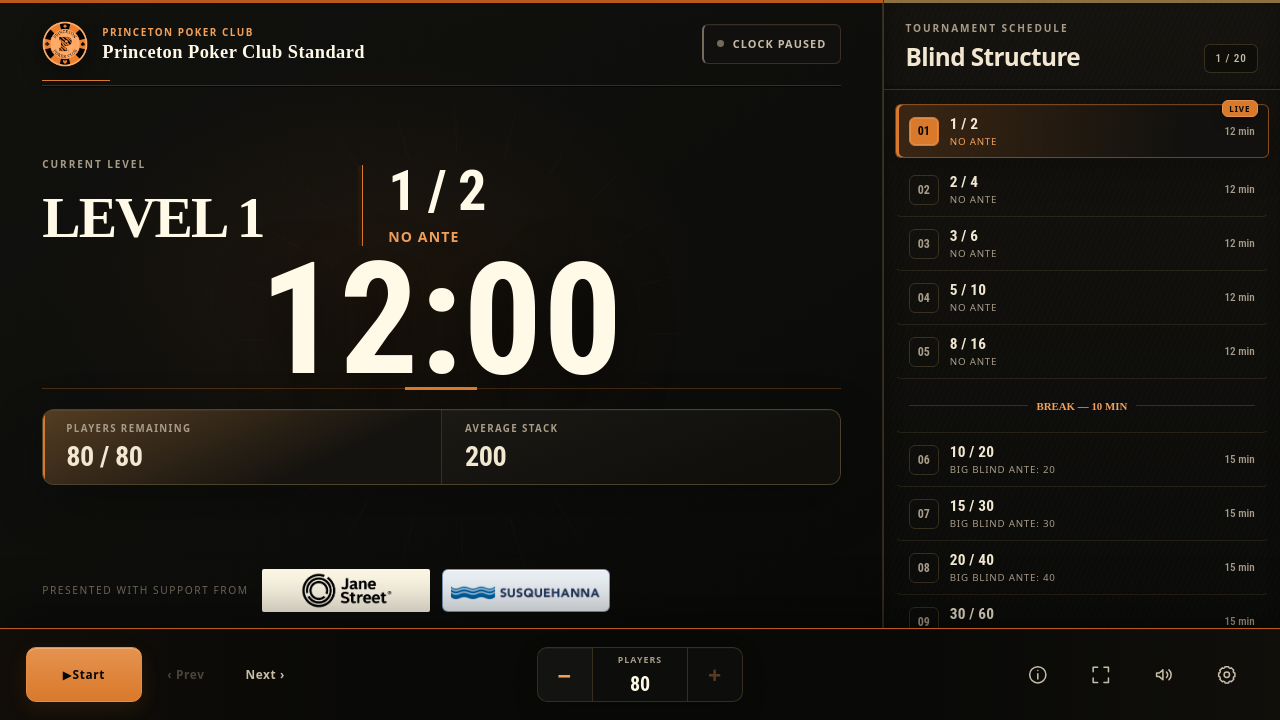
Test: DirectorOverlay › opens on Structure with integrated clock and reset controls
This screenshot has width=1280, height=720.
Click the button named "Open Tournament Director". click: coordinates (1227, 674)
box: [1200,647,1254,702]
(page scrolled)
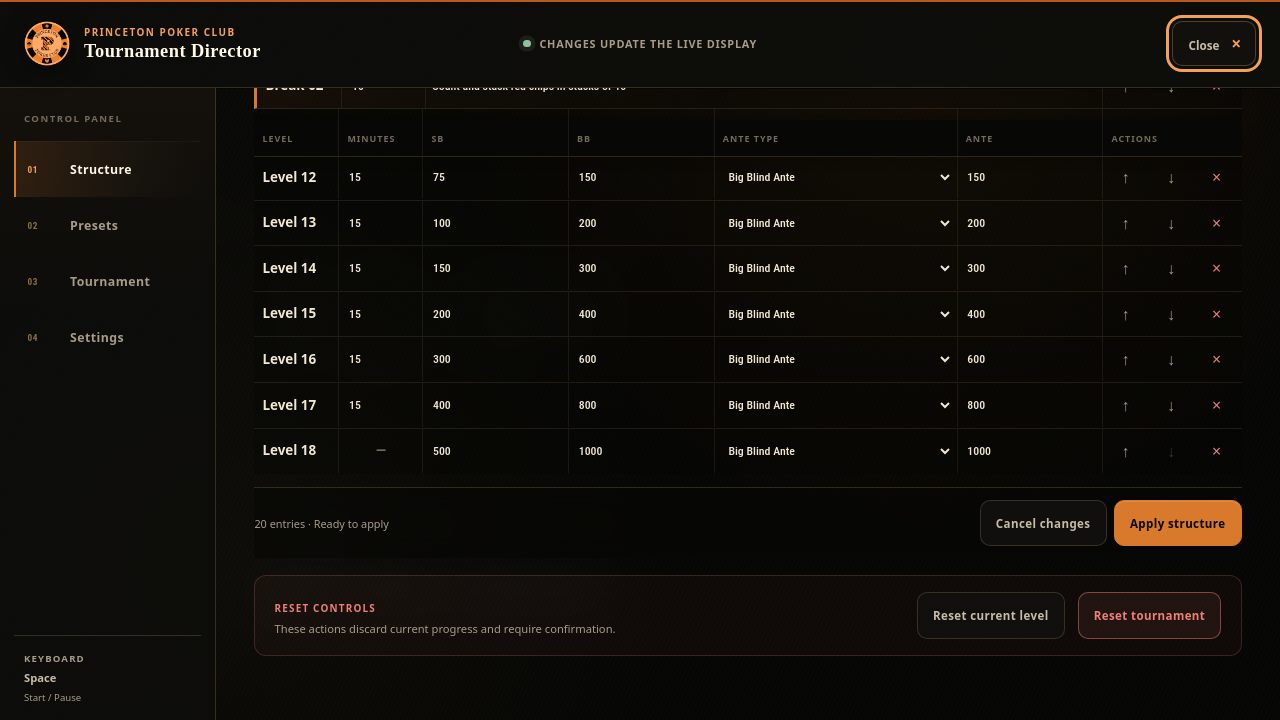
Now the dialog "Tournament Director" is shown
Now the button "Reset current level" is shown, box [917,592,1065,639]
